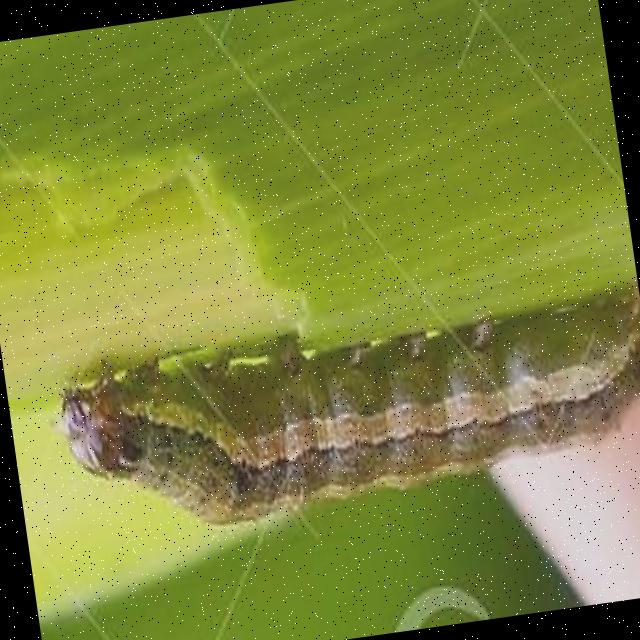worm: (52, 275, 640, 552)
